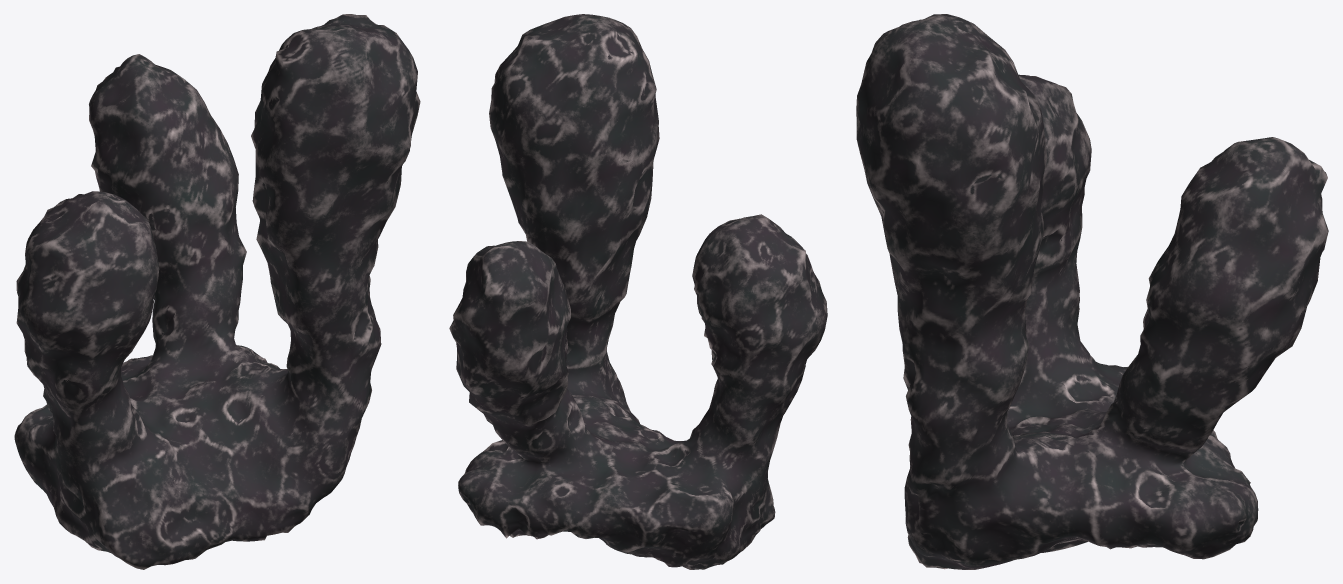
3 renders of one model, left to right at view 1: azimuth 30°, elevation 25°; view 2: azimuth 150°, elevation 25°; view 3: azimuth 270°, elevation 25°, orthographic. The views are drawn at different scales.
Visible parts, largest first — view 1: 9.001; view 2: 9.001; view 3: 9.001.
Part boxes in pixels (bbox=[...]): 9.001: bbox=[14, 14, 420, 569]; 9.001: bbox=[449, 14, 827, 569]; 9.001: bbox=[856, 14, 1328, 569].
Bounding box in the file's own units: 21.46 × 28.98 × 20.71.
1 material, 1 textured.
